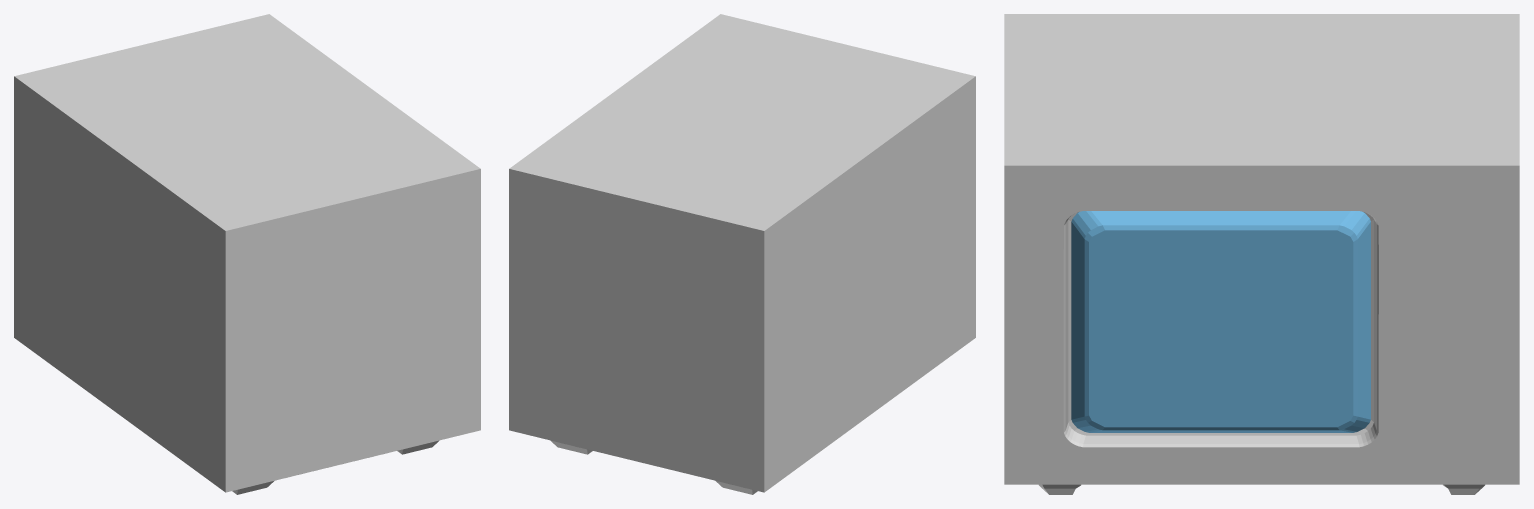
File: crt1_low.fbx
3 views of the same model, side by side, from view 1: azimuth 30°, elevation 25°; view 2: azimuth 150°, elevation 25°; view 3: azimuth 270°, elevation 25° (orthographic). The views are drawn at different scales.
Parts seen in each view (by area): view 1: Cube.001; view 2: Cube.001; view 3: Cube.001.
Boxes of the visible parts, <box> form: Cube.001: <box>14,14,480,494</box>; Cube.001: <box>509,14,975,494</box>; Cube.001: <box>1004,14,1519,494</box>.
Bounding box in the file's own units: 200 × 213 × 287.
